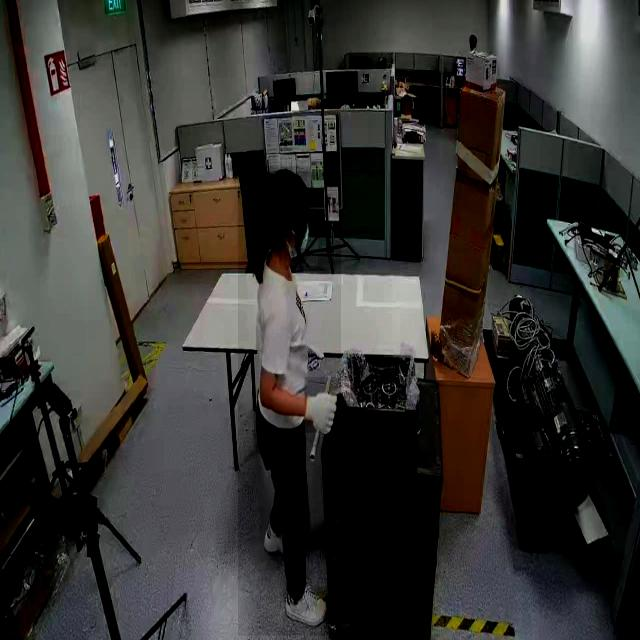face_mask: (286, 217, 318, 266)
hand_glove: (304, 377, 342, 434)
head_nohelmet: (261, 166, 311, 214), (469, 33, 477, 40)
person: (238, 172, 342, 636)
shoes: (282, 579, 328, 630), (263, 520, 303, 556)
